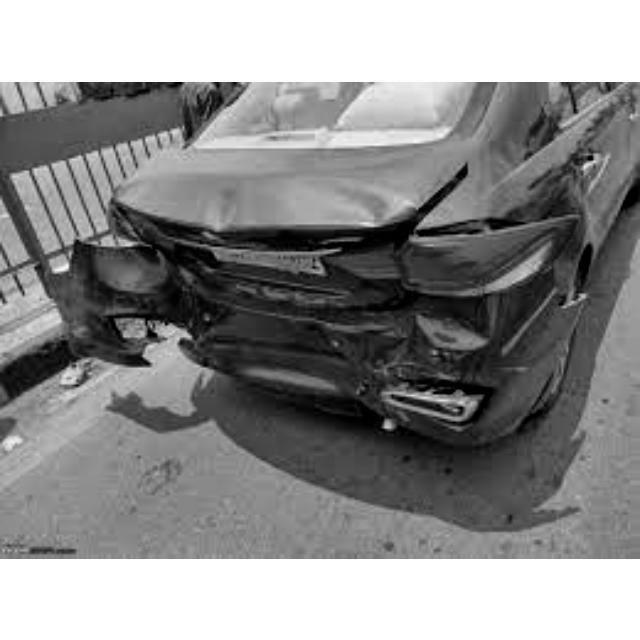boot-dent: (149, 150, 420, 303)
rear-bumper-dent: (162, 281, 497, 408)
